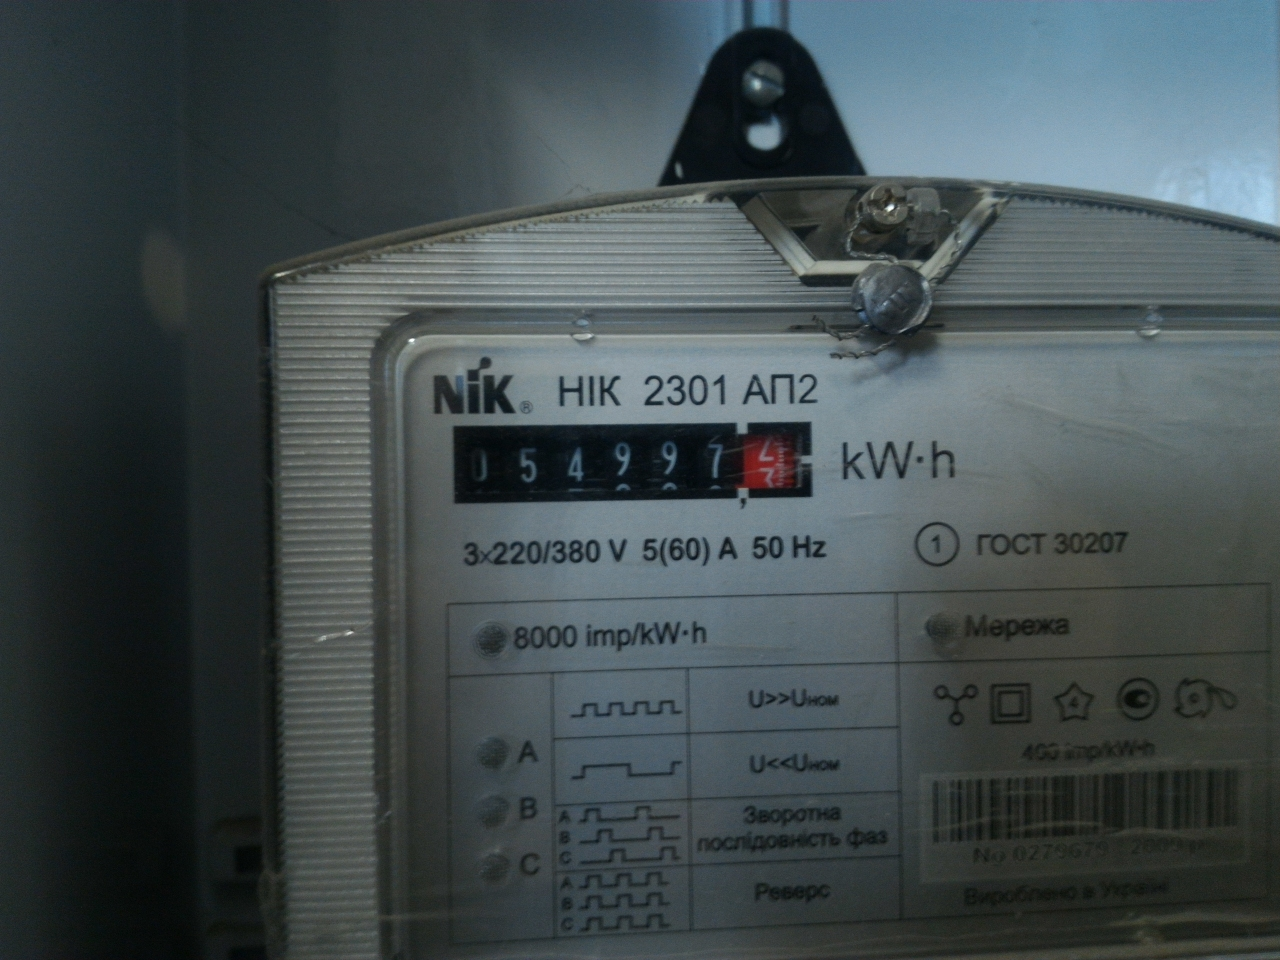0: (466, 443, 491, 484)
2: (755, 431, 776, 462)
3: (755, 465, 777, 489)
4: (565, 445, 585, 485)
5: (514, 444, 541, 485)
7: (705, 440, 725, 481)
9: (658, 437, 680, 477), (612, 439, 633, 477)
screen: (441, 407, 827, 512)
